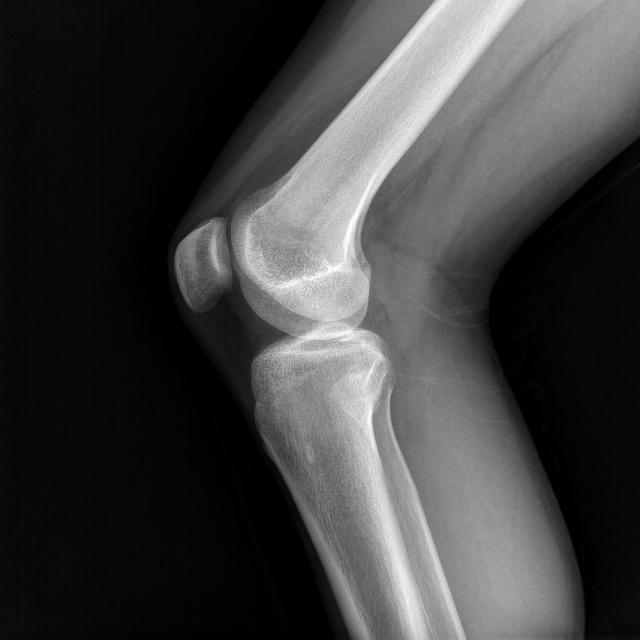Knee: (171, 206, 396, 411)
